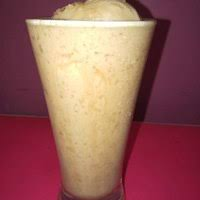jigirthanda: (34, 12, 158, 192)
